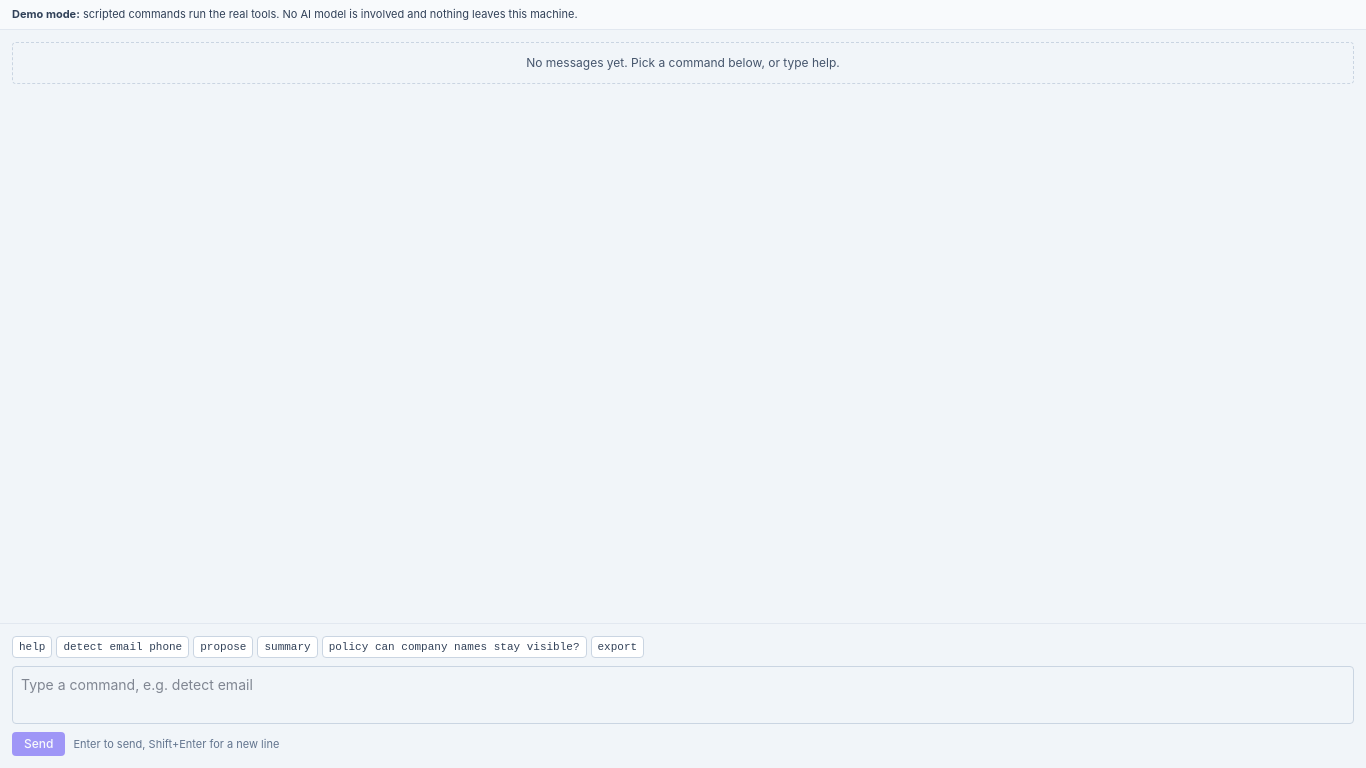
Scenario: ChatPanel: sending and watching a request › can be cancelled while it works, and the stopped answer is marked
This screenshot has width=1366, height=768.
Type "find" into the text box named "Message to the assistant".
click(683, 695); type("find")  # box [12,666,1354,724]
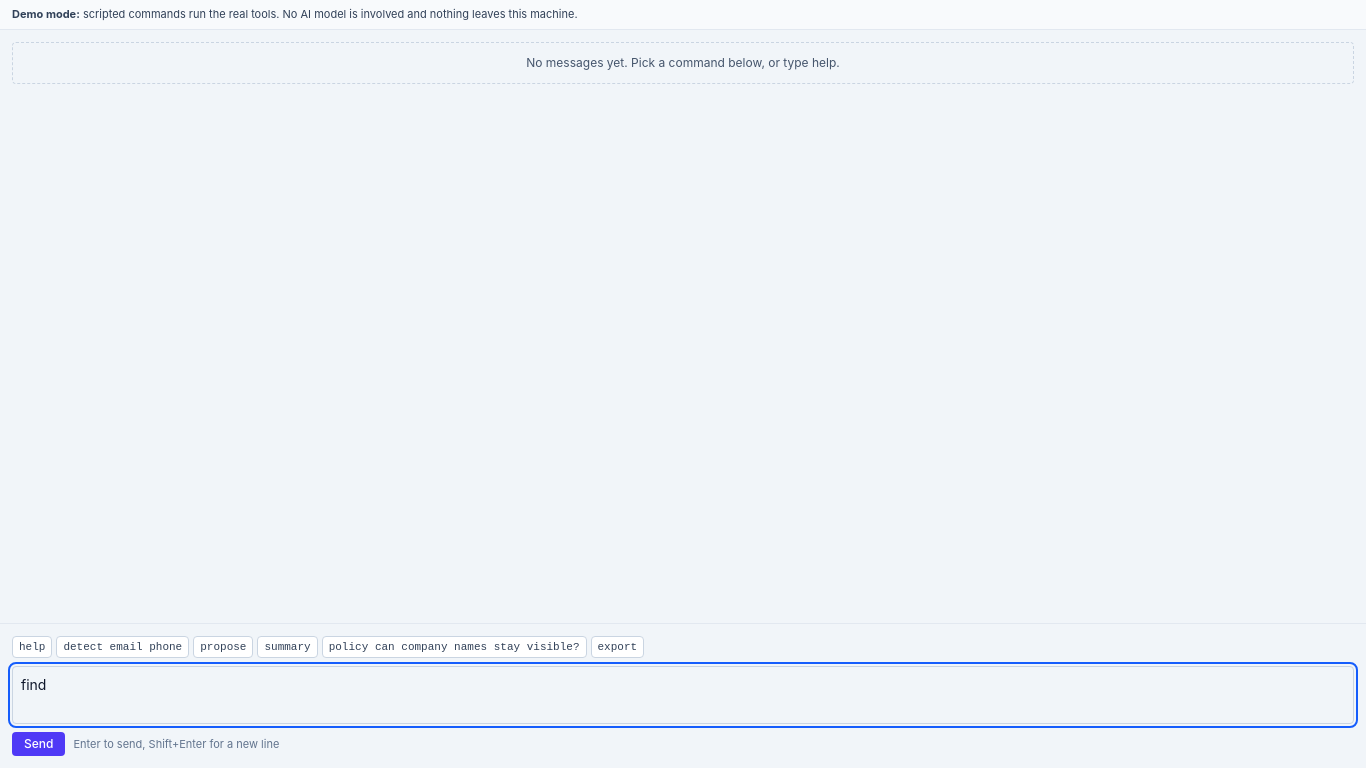
Click the button "Send".
click(39, 744)  # box [12,732,65,756]
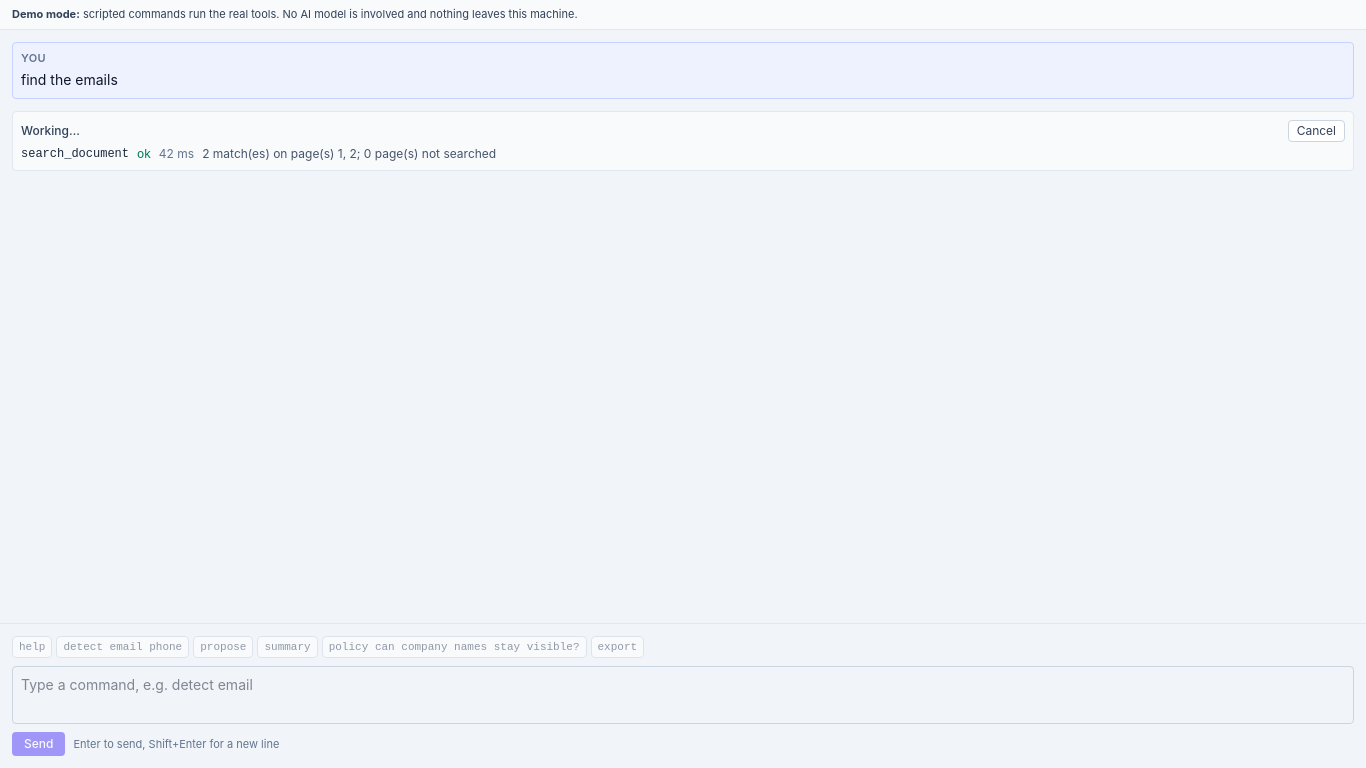
Click the button "Cancel".
click(1316, 131)  # box [1288,120,1345,142]
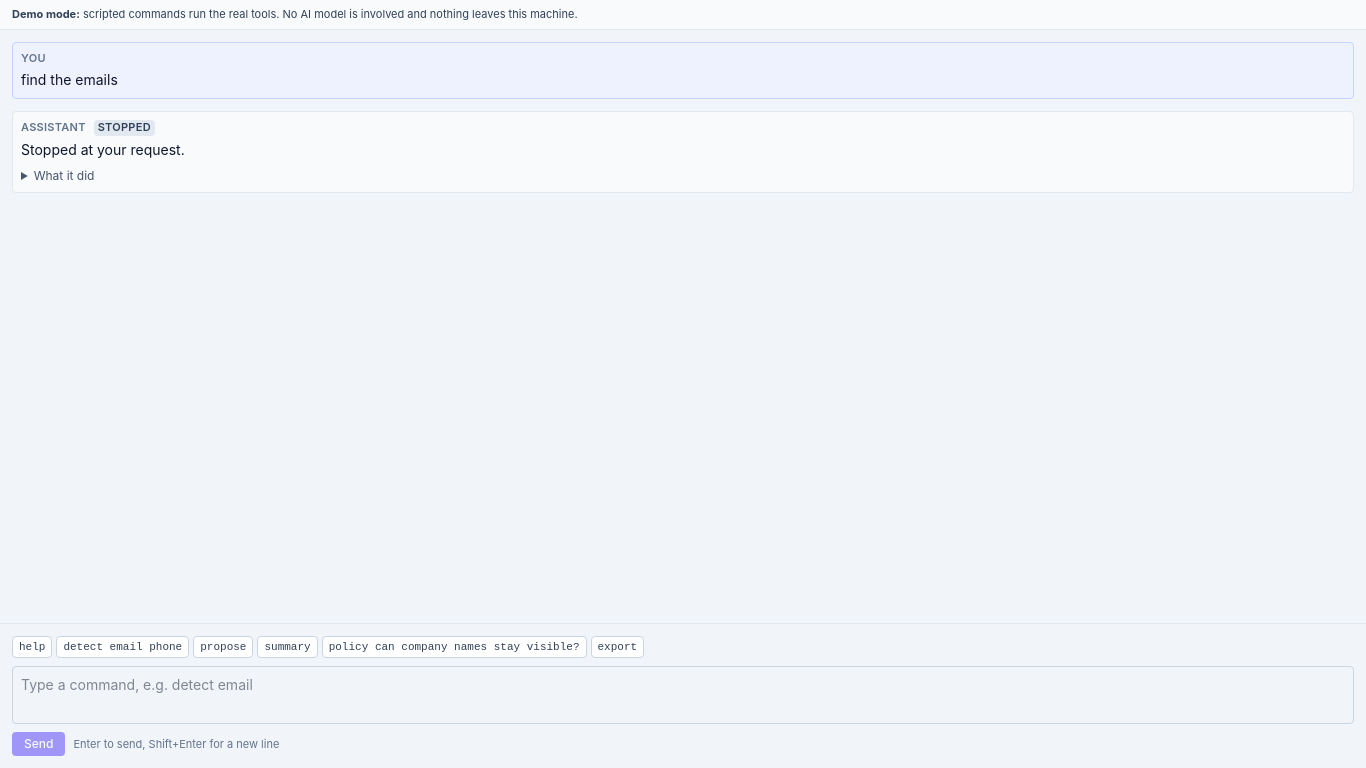
Result: the text "stopped" is shown at [94,120,155,136]
